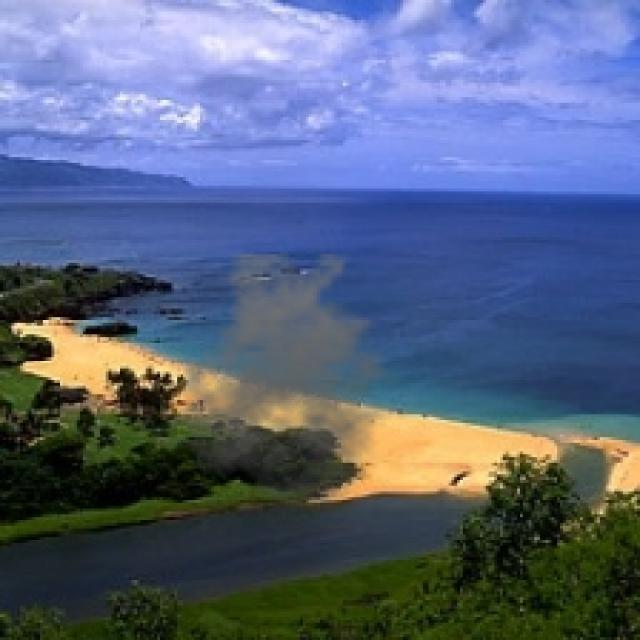smoke: (169, 255, 414, 514)
